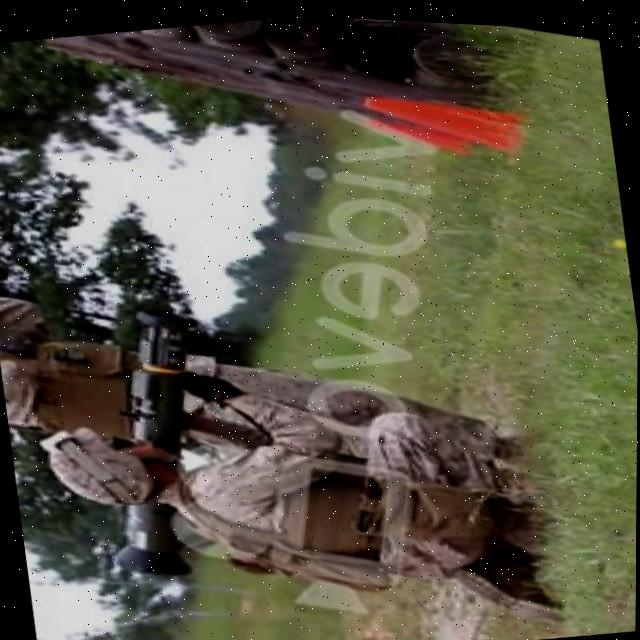rocket: (78, 297, 248, 588)
